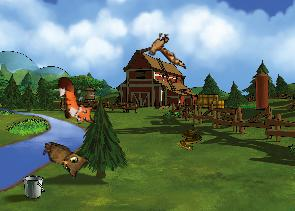eagle: (139, 31, 187, 69)
fox: (55, 72, 99, 129)
owl: (37, 140, 90, 180)
